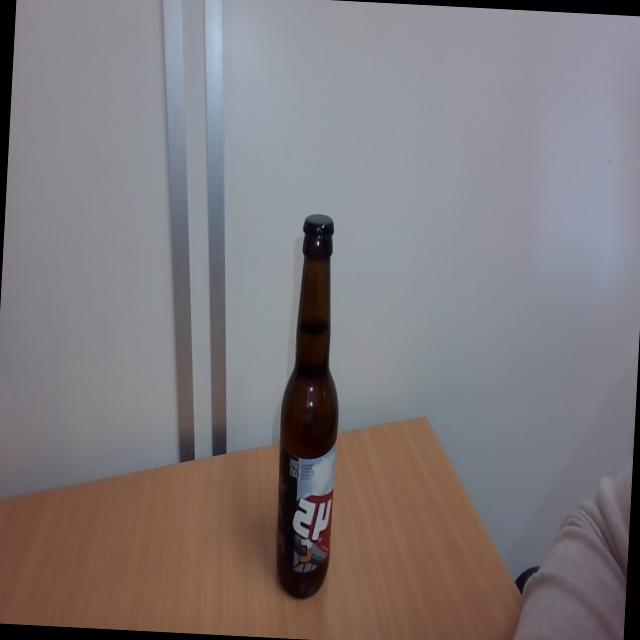Bottle: (272, 242, 348, 604)
Cap: (302, 208, 336, 247)
Label: (274, 445, 336, 578)
